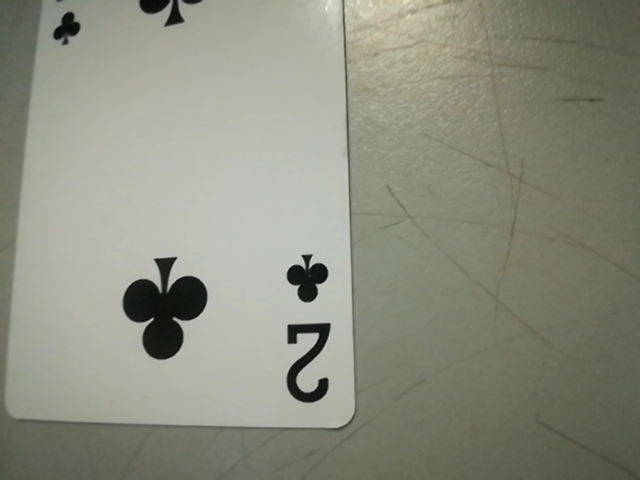mh 2: (272, 239, 349, 419)
